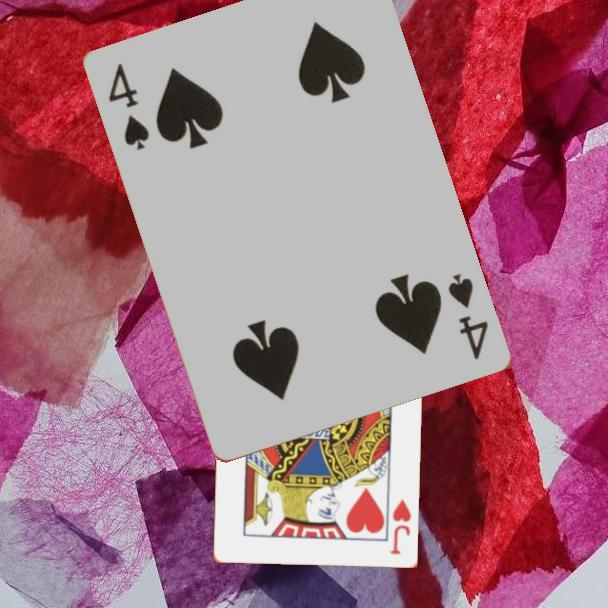h11: (387, 495, 413, 557)
s04: (105, 60, 154, 154), (445, 270, 492, 363)
